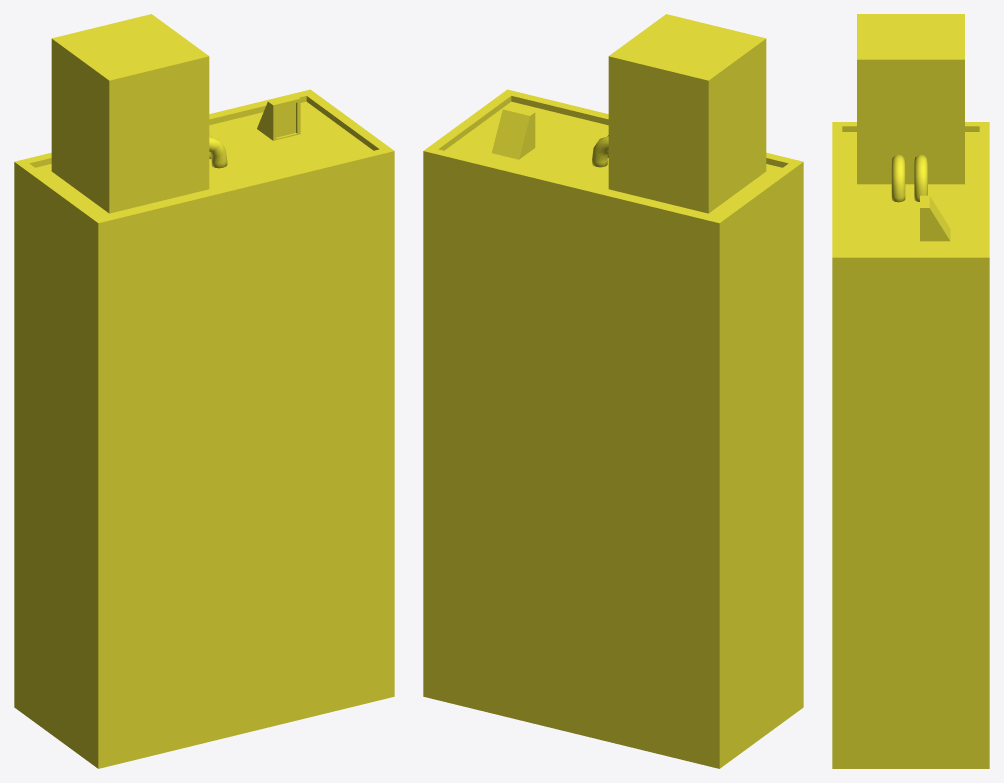
File: Building9_yellow.fbx
3 renders of one model, left to right at view 1: azimuth 30°, elevation 25°; view 2: azimuth 150°, elevation 25°; view 3: azimuth 270°, elevation 25°, orthographic. The views are drawn at different scales.
Parts seen in each view (by area): view 1: Building 9; view 2: Building 9; view 3: Building 9.
Part boxes in pixels (box(x1,y1,x2,y2)): Building 9: box(14, 14, 394, 768); Building 9: box(423, 14, 803, 768); Building 9: box(832, 14, 989, 768).
Size of the model in its own units: 2416 by 5243 by 1188.
1 material, 1 textured.
